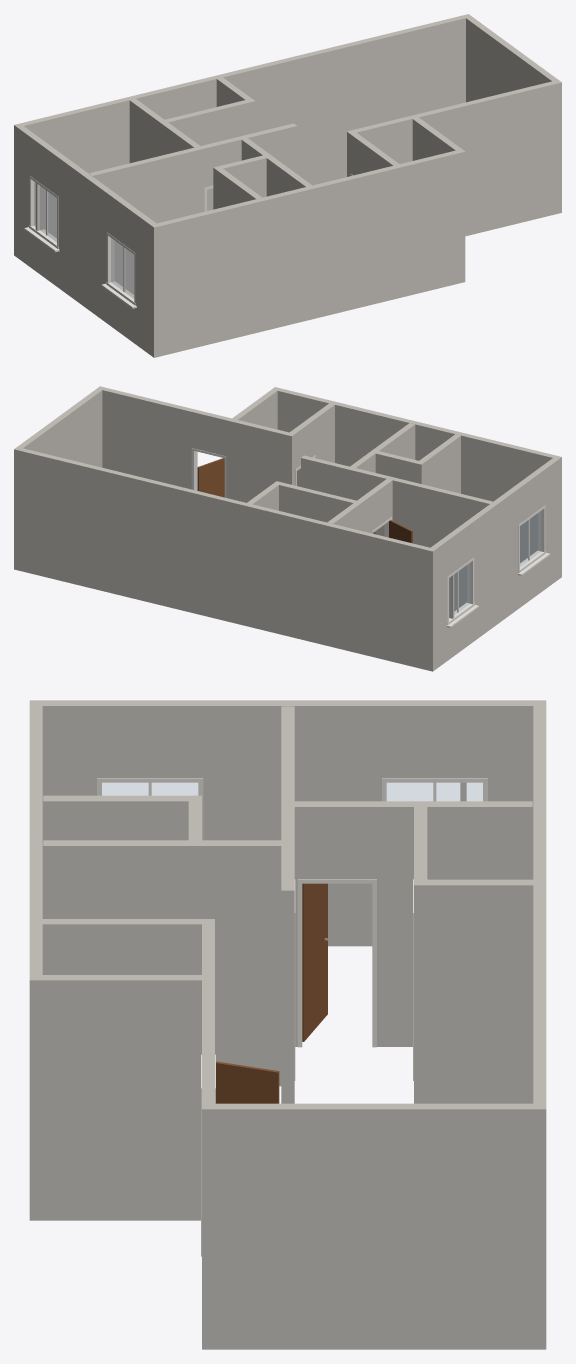
The model's file is two-bedroom.glb.
3 views of the same model, one above another, from view 1: azimuth 30°, elevation 25°; view 2: azimuth 150°, elevation 25°; view 3: azimuth 270°, elevation 25° (orthographic). The views are drawn at different scales.
Parts seen in each view (by area): view 1: Ground Floor; view 2: Ground Floor; view 3: Ground Floor.
Boxes of the visible parts, bbox=[...] form: Ground Floor: bbox=[14, 14, 561, 357]; Ground Floor: bbox=[14, 386, 561, 671]; Ground Floor: bbox=[29, 700, 546, 1349].
Bounding box in the file's own units: 11.23 × 3.05 × 5.94.
